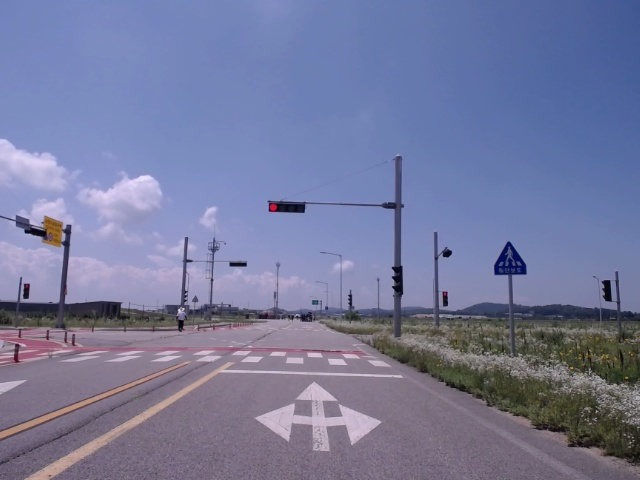red_4: (269, 203, 305, 214)
